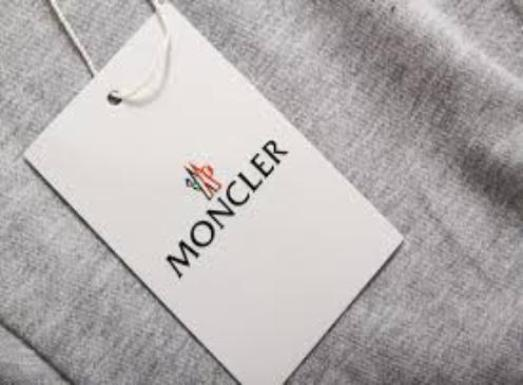MONCLER: (182, 159, 222, 202)
